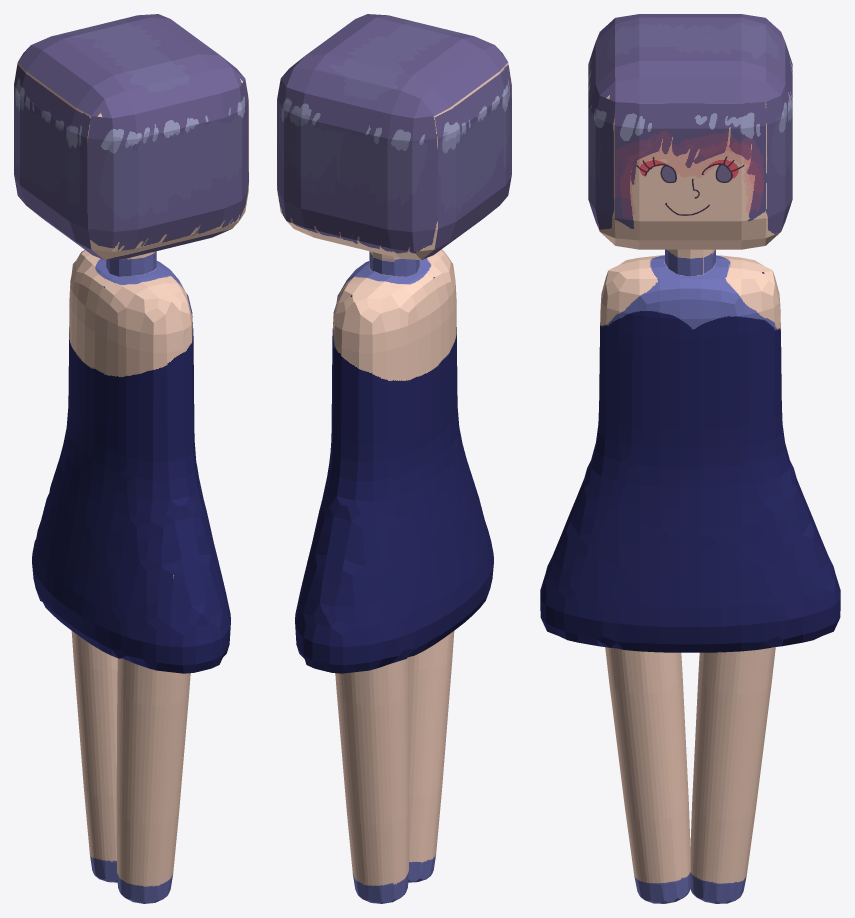
The model's file is elegant_lenny.fbx.
3 views of the same model, side by side, from view 1: azimuth 30°, elevation 25°; view 2: azimuth 150°, elevation 25°; view 3: azimuth 270°, elevation 25° (orthographic). The views are drawn at different scales.
Visible parts, largest first — view 1: mobChara3; view 2: mobChara3; view 3: mobChara3.
Boxes of the visible parts, x1,y1,x2,y2 form: mobChara3: [14, 14, 248, 903]; mobChara3: [277, 14, 511, 903]; mobChara3: [540, 14, 840, 903].
Bounding box in the file's own units: 100 × 463 × 147.
Materials: 2 (2 with a texture image).
